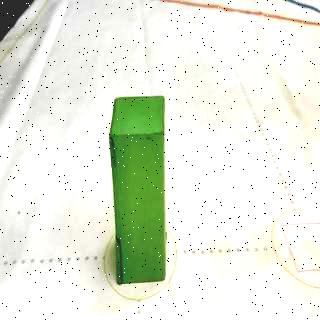greenbox: (108, 93, 172, 284)
